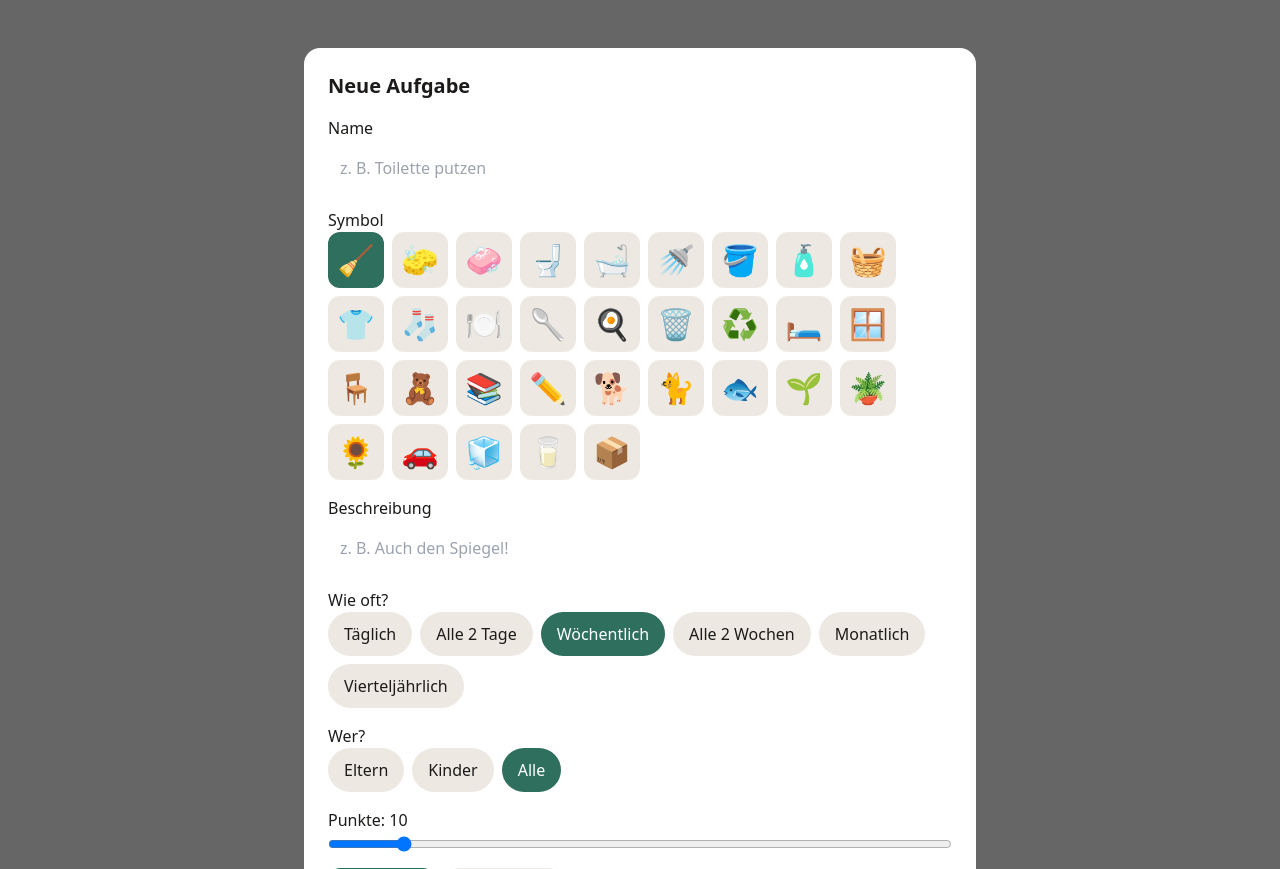
Test: ChoreDialog — Anlegen › meldet einen fehlgeschlagenen Speichervorgang
Type "Müll" into the field labelled "Name" at (640, 168), box [328, 144, 952, 192]
(page scrolled)
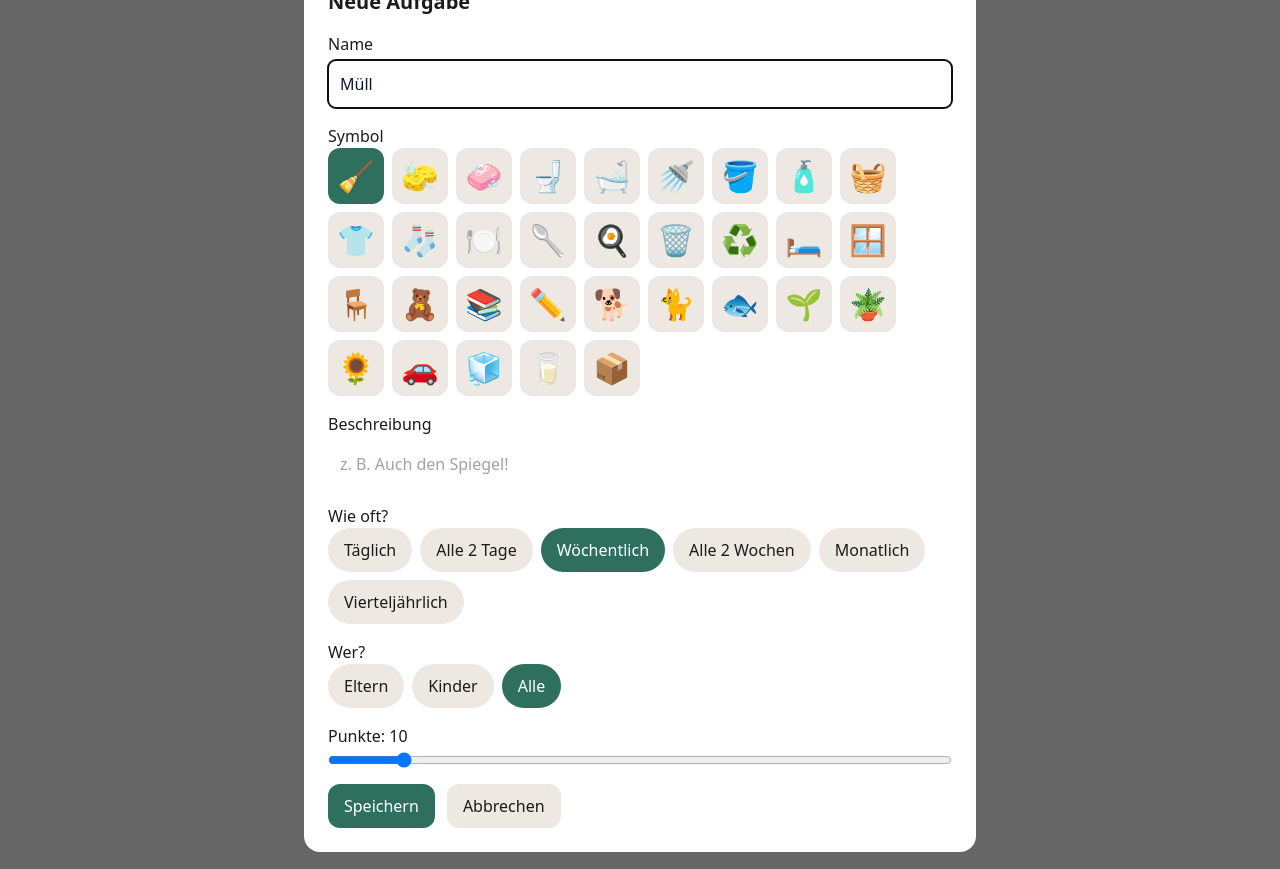
Click the button "Speichern" at (381, 806), box [328, 784, 435, 828]
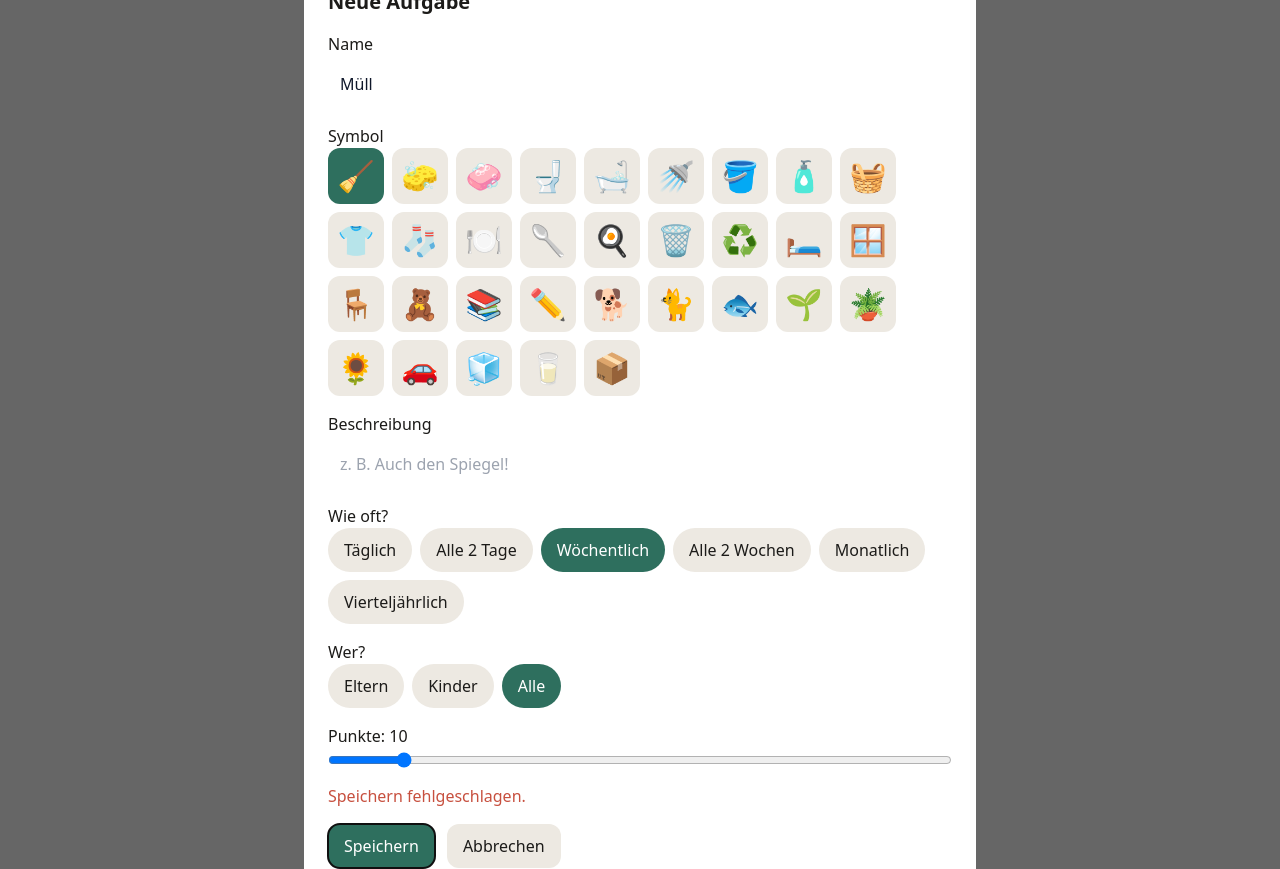
Check: the text "Speichern fehlgeschlagen." is shown, box [328, 785, 526, 807]
